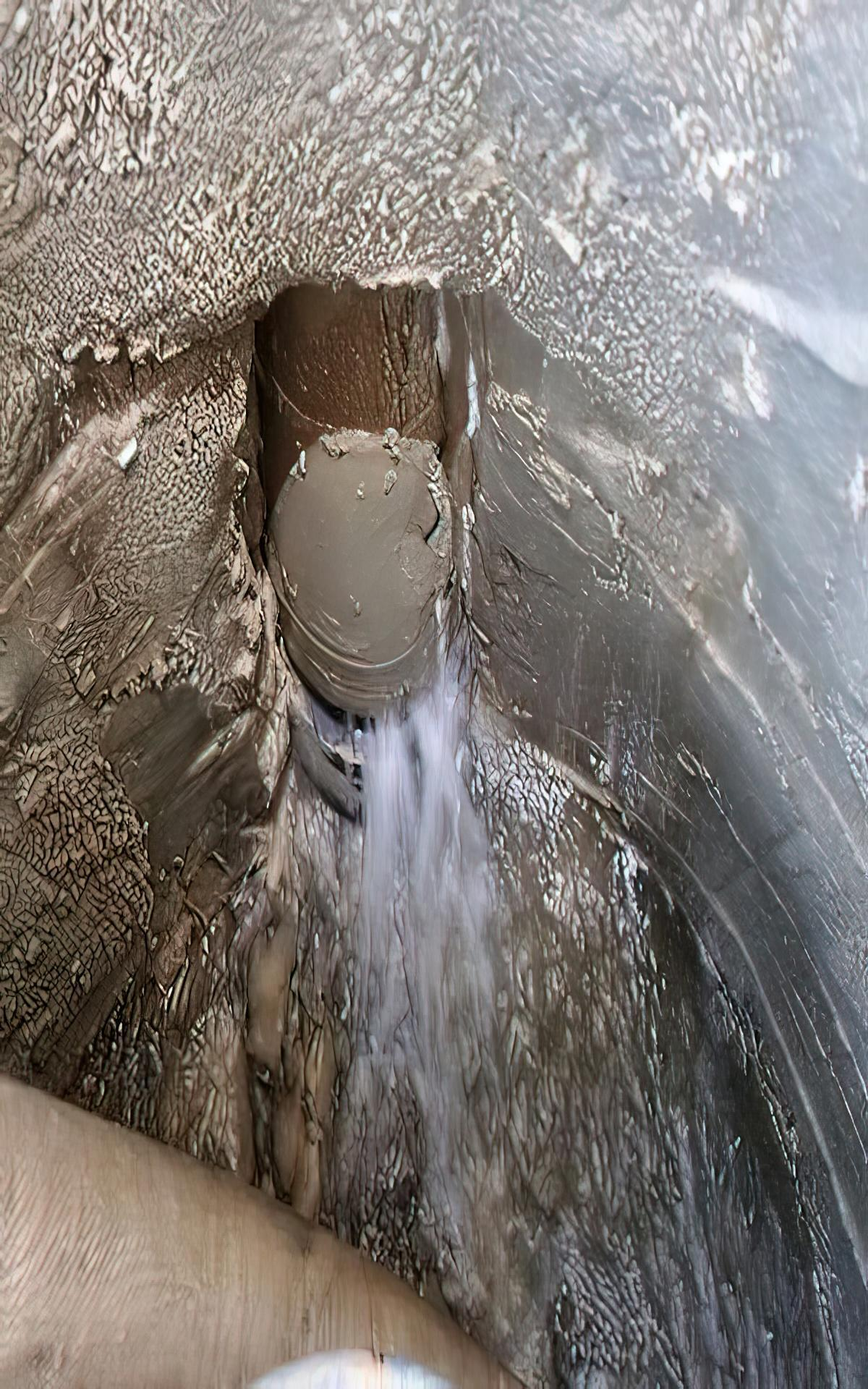pipe burst: (333, 659, 502, 1112)
water accumulation: (77, 721, 832, 1389)
